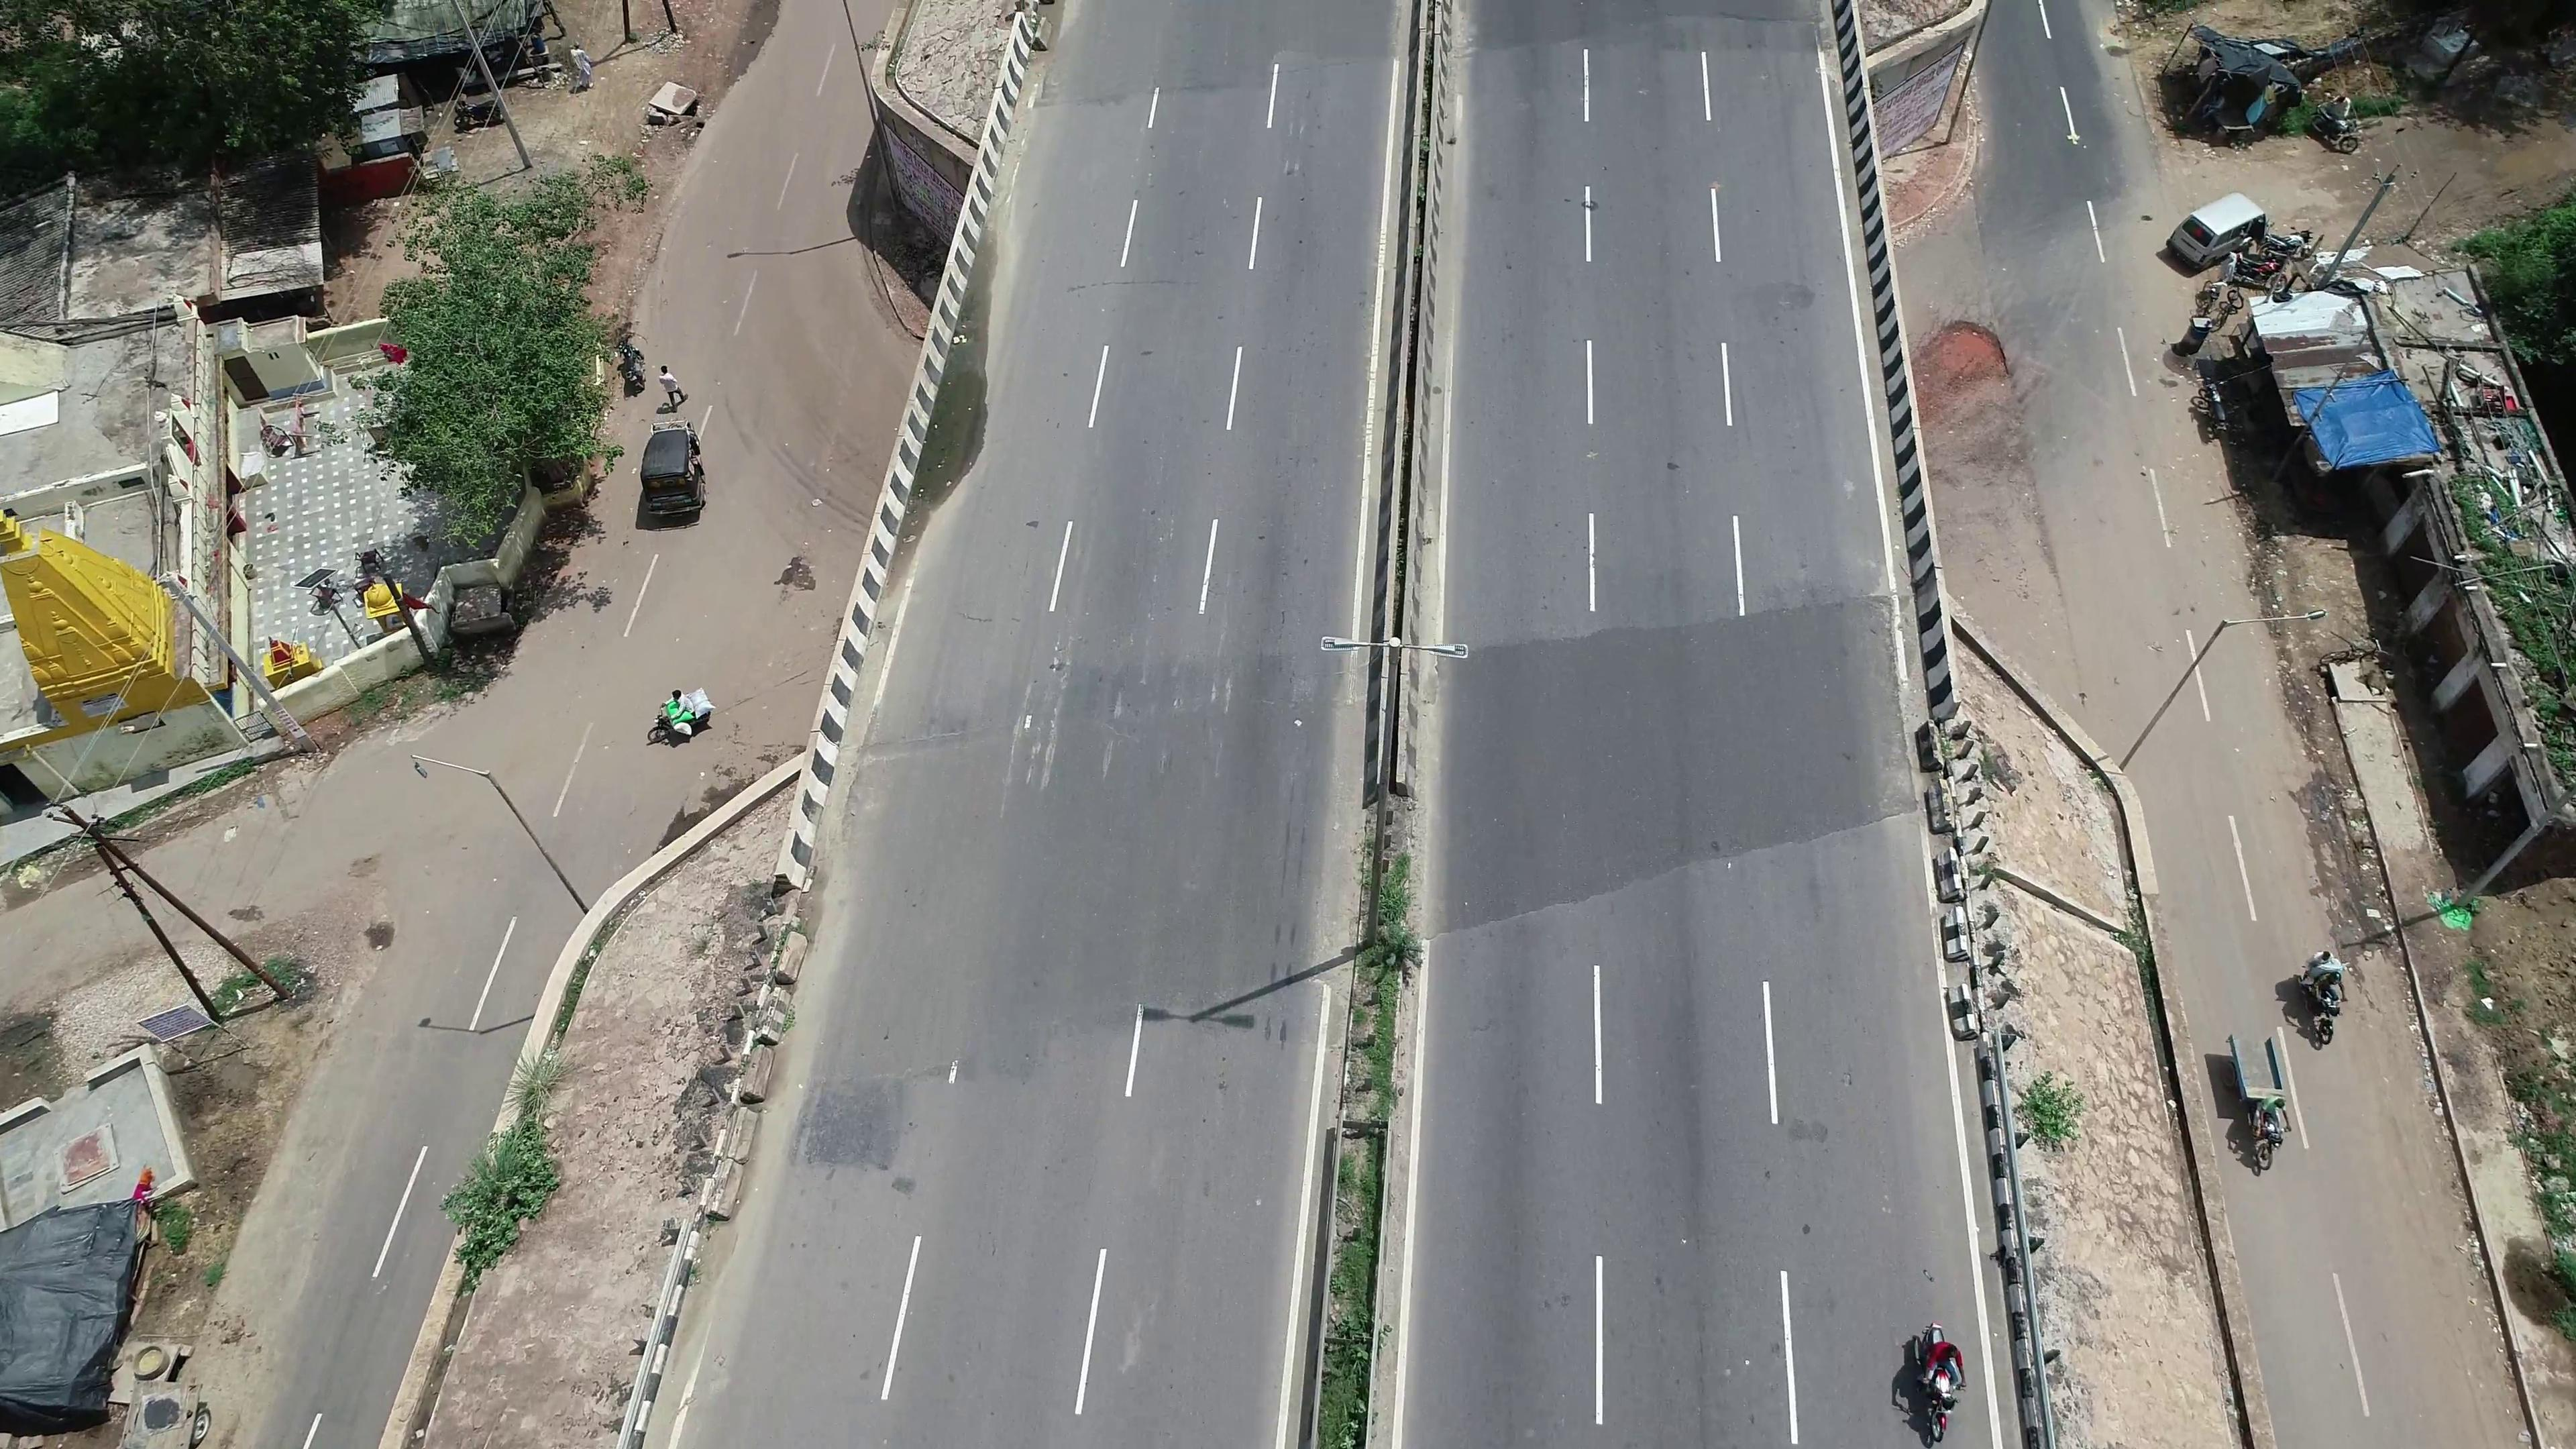Potholes: (1941, 278, 2031, 426)
